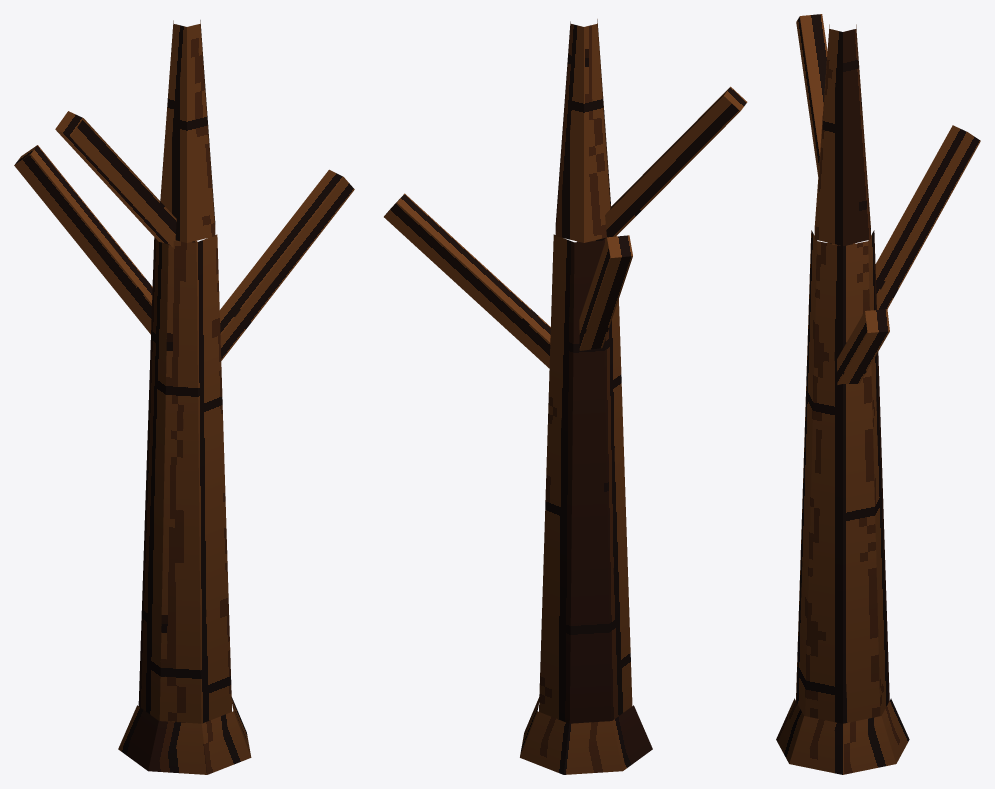
Rendered from apple_2_trunk.glb.
3 views of the same model, side by side, from view 1: azimuth 30°, elevation 25°; view 2: azimuth 150°, elevation 25°; view 3: azimuth 270°, elevation 25° (orthographic).
Parts seen in each view (by area): view 1: apple_2_trunk; view 2: apple_2_trunk; view 3: apple_2_trunk.
Part boxes in pixels (box(x1,y1,x2,y2)): apple_2_trunk: box(14, 20, 354, 774); apple_2_trunk: box(384, 19, 747, 774); apple_2_trunk: box(776, 14, 980, 774).
Bounding box in the file's own units: 1.95 × 4.18 × 1.08.
1 material, 1 textured.
